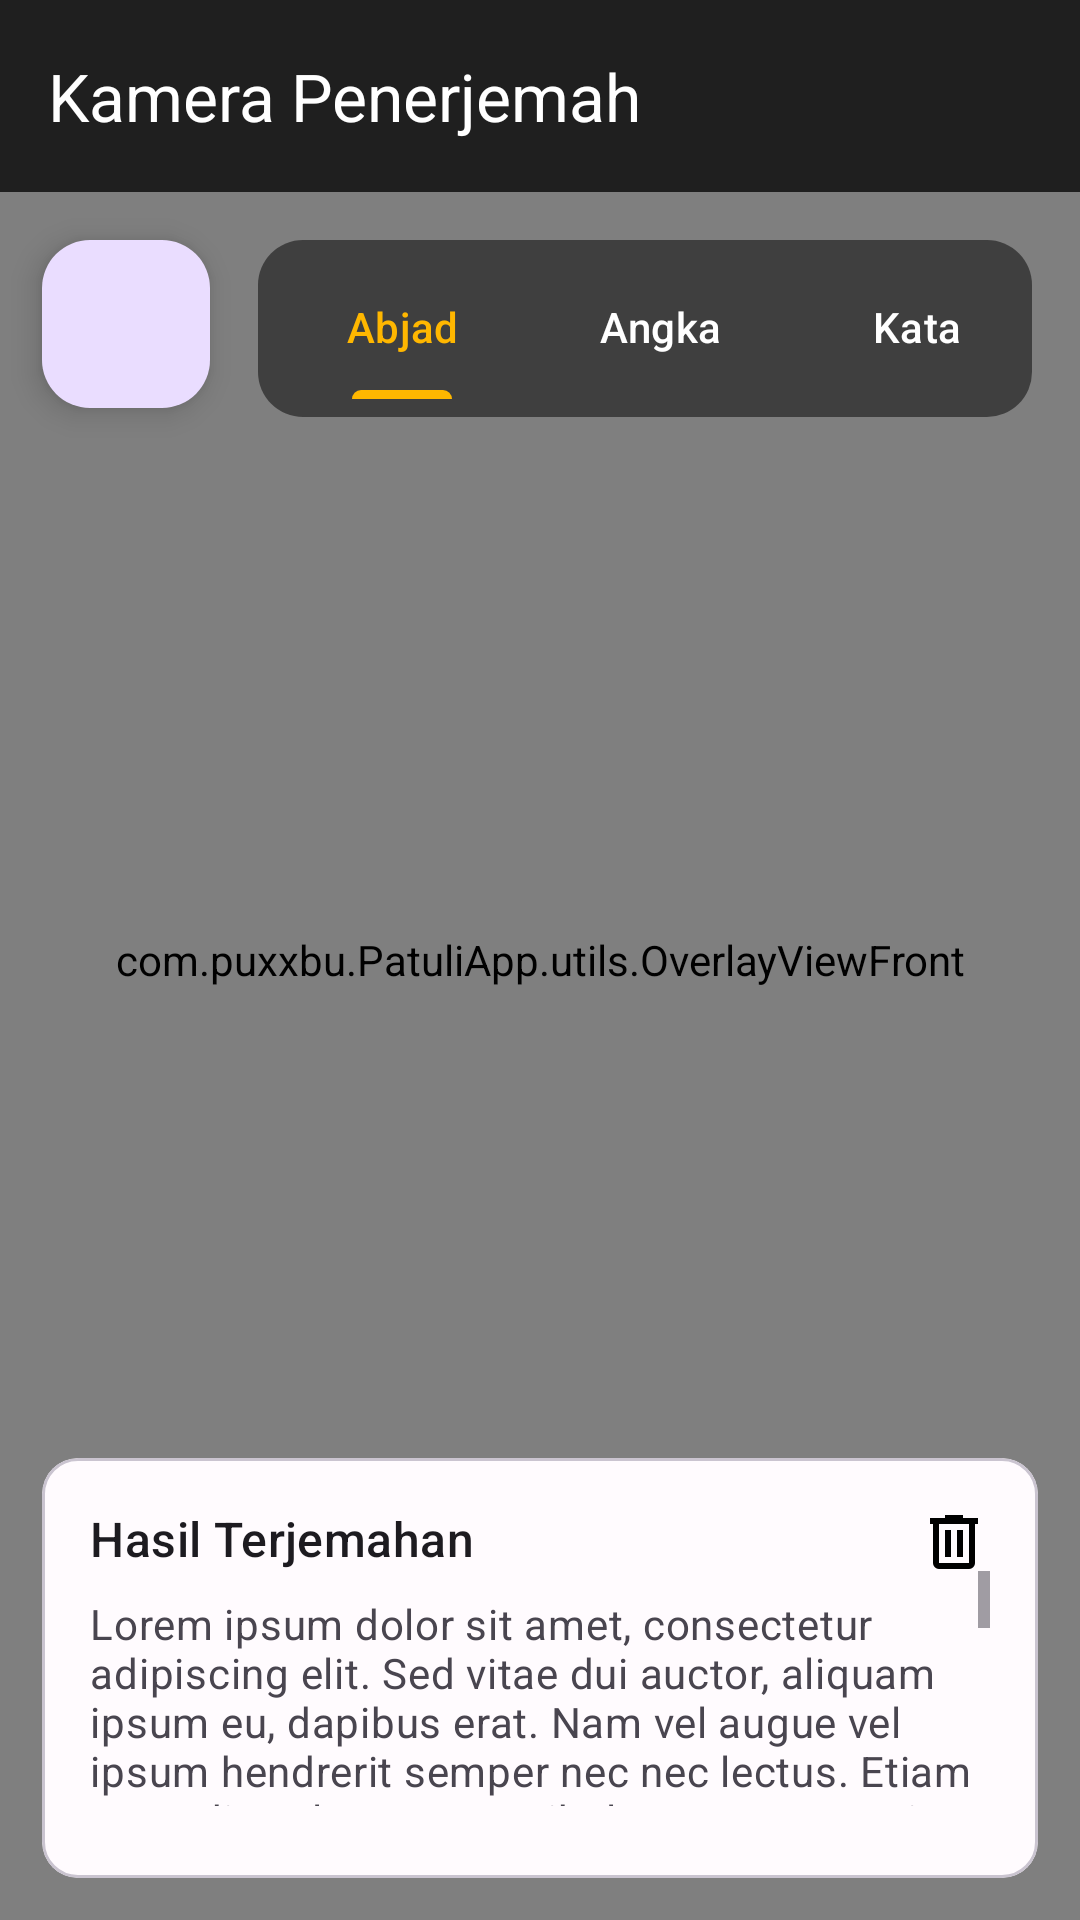

Where icons sit on this 1080 x 1920 app screen, as {"left": x1, "top": y1, "right": x2, "bottom": y2}:
trash: {"left": 930, "top": 1515, "right": 978, "bottom": 1569}
